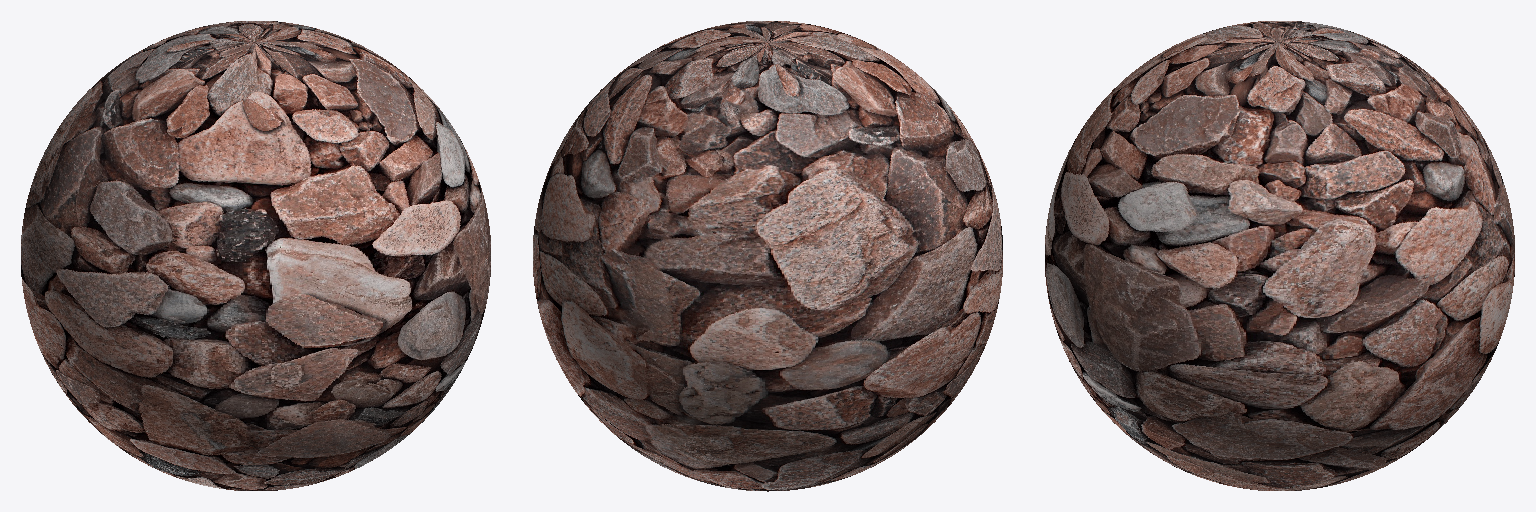
3 renders of one model, left to right at view 1: azimuth 30°, elevation 25°; view 2: azimuth 150°, elevation 25°; view 3: azimuth 270°, elevation 25°, orthographic.
Parts seen in each view (by area): view 1: Sphere001; view 2: Sphere001; view 3: Sphere001.
Part boxes in pixels (x1,y1,x2,y2): Sphere001: (21,21,490,490); Sphere001: (533,21,1002,491); Sphere001: (1045,21,1514,490).
Bounding box in the file's own units: 1.96 × 1.96 × 1.96.
1 materials, 1 textured.